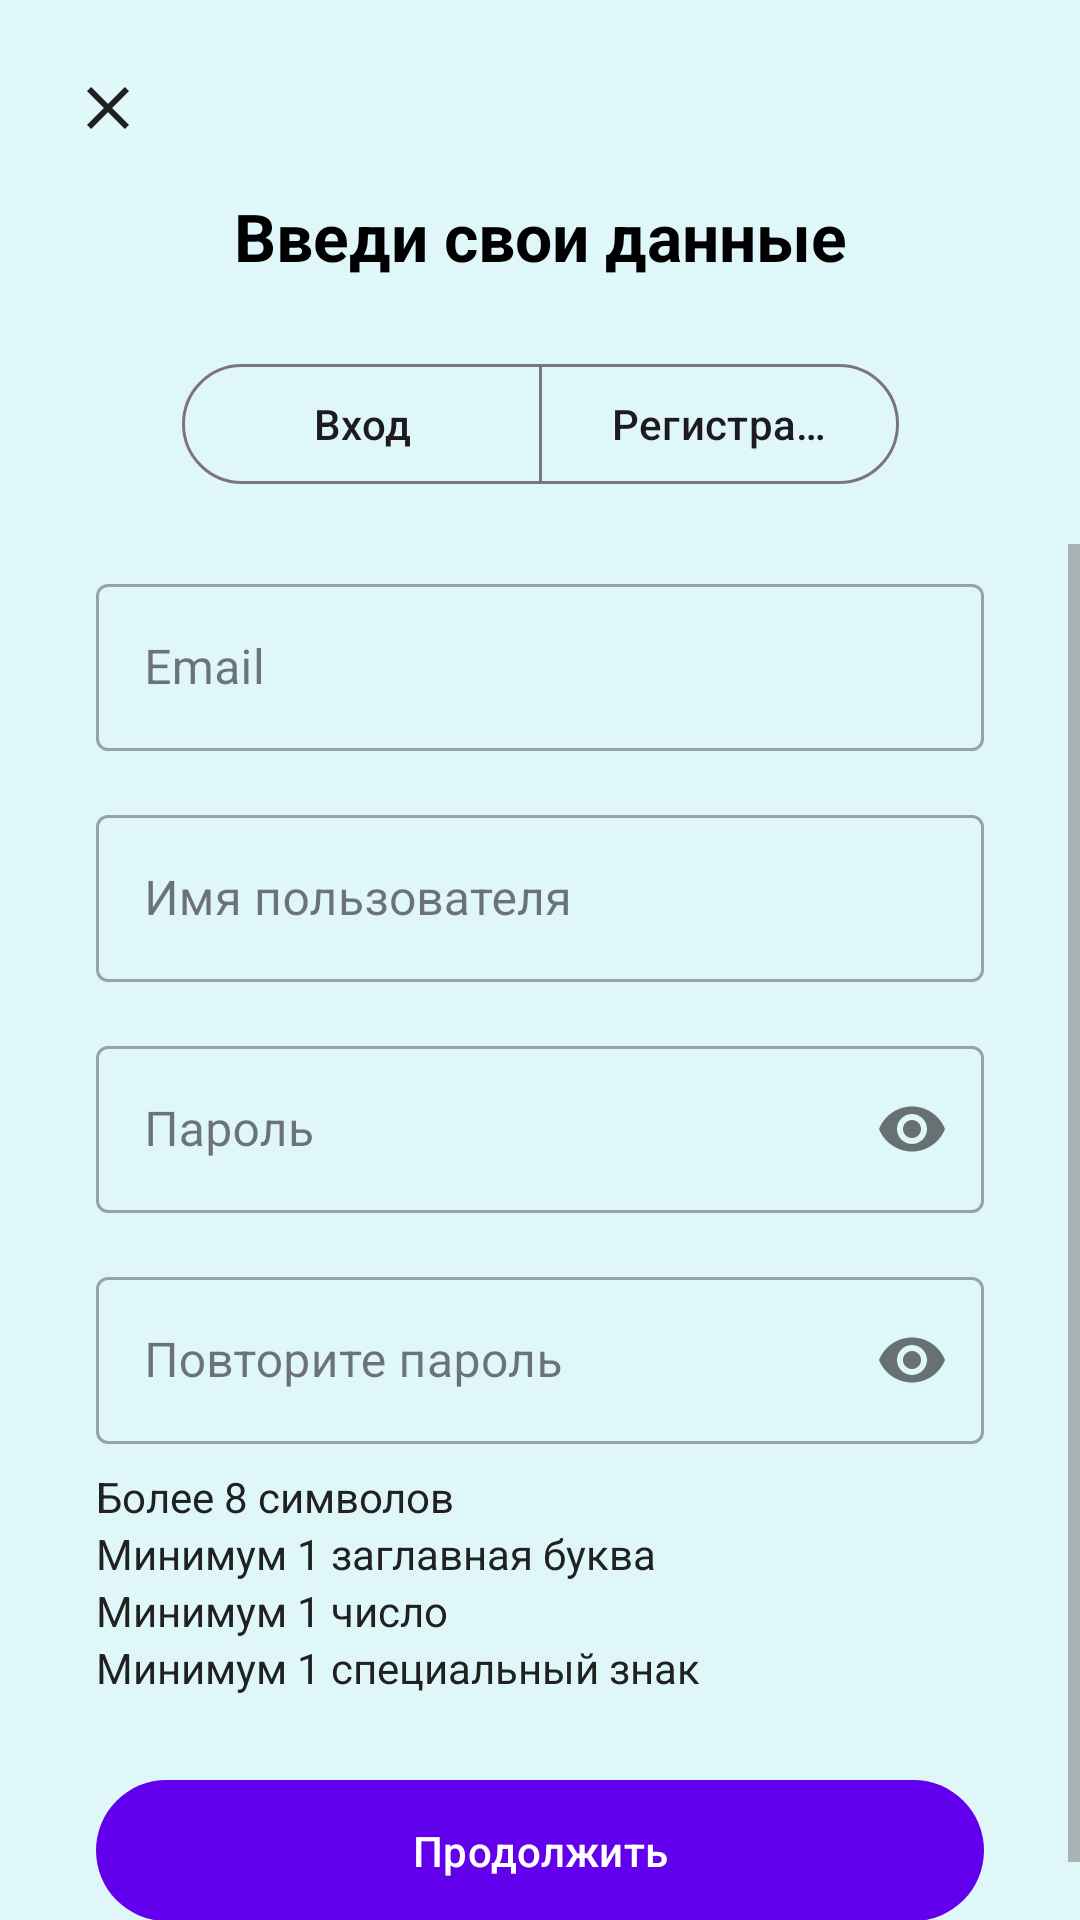

Icons on this 1080×1920 Android screen, each with its box as detection(x1, y1, x2, y2):
Назад: detection(87, 87, 129, 129)
